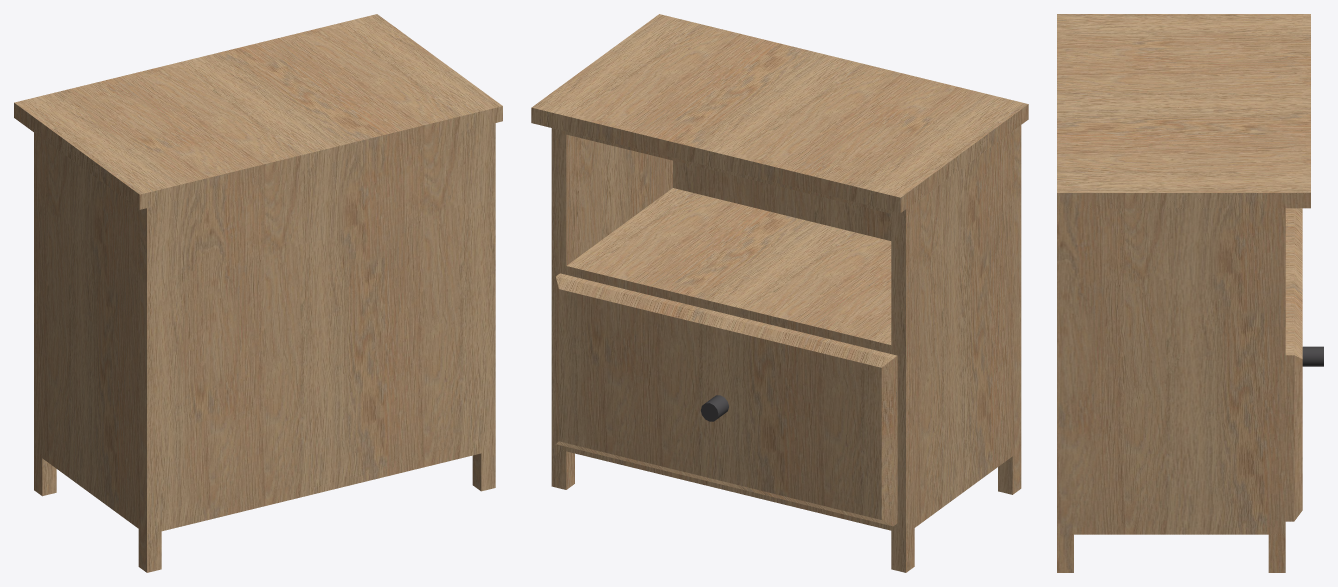
Rendered from Bedside_table.FBX.
3 views of the same model, side by side, from view 1: azimuth 30°, elevation 25°; view 2: azimuth 150°, elevation 25°; view 3: azimuth 270°, elevation 25° (orthographic).
Visible parts, largest first — view 1: Bedside_table; view 2: Bedside_table; view 3: Bedside_table.
Boxes of the visible parts, x1,y1,x2,y2 form: Bedside_table: [14, 14, 502, 572]; Bedside_table: [531, 14, 1028, 572]; Bedside_table: [1057, 14, 1323, 572].
Size of the model in its own units: 50 by 50 by 31.5.
